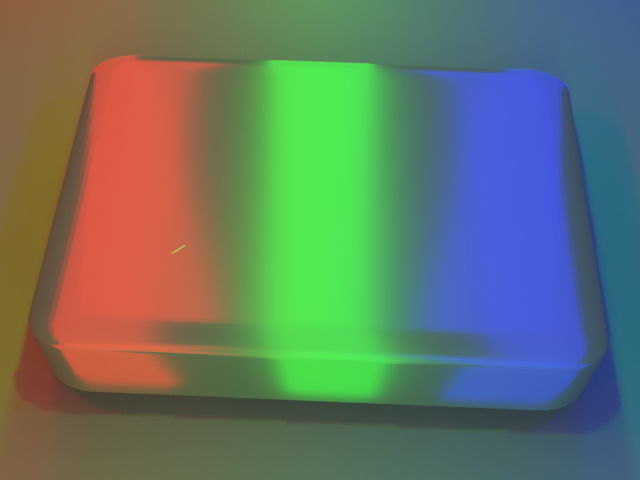scratch: (126, 233, 192, 269)
